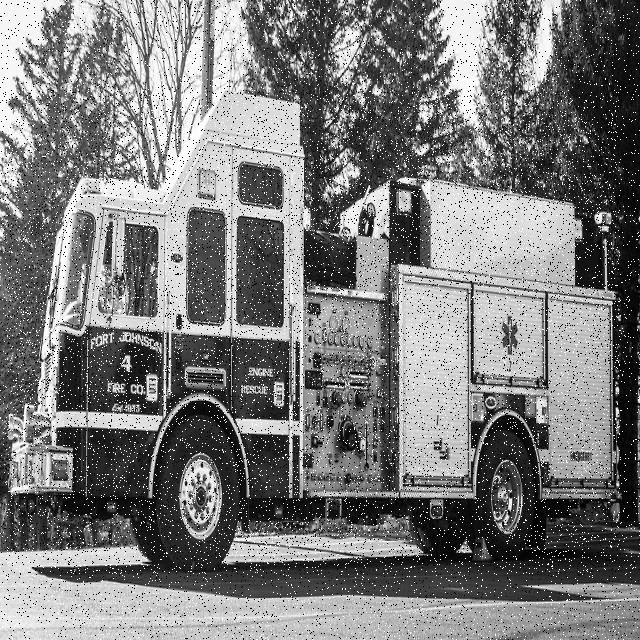Fire Truck: (5, 90, 621, 574)
